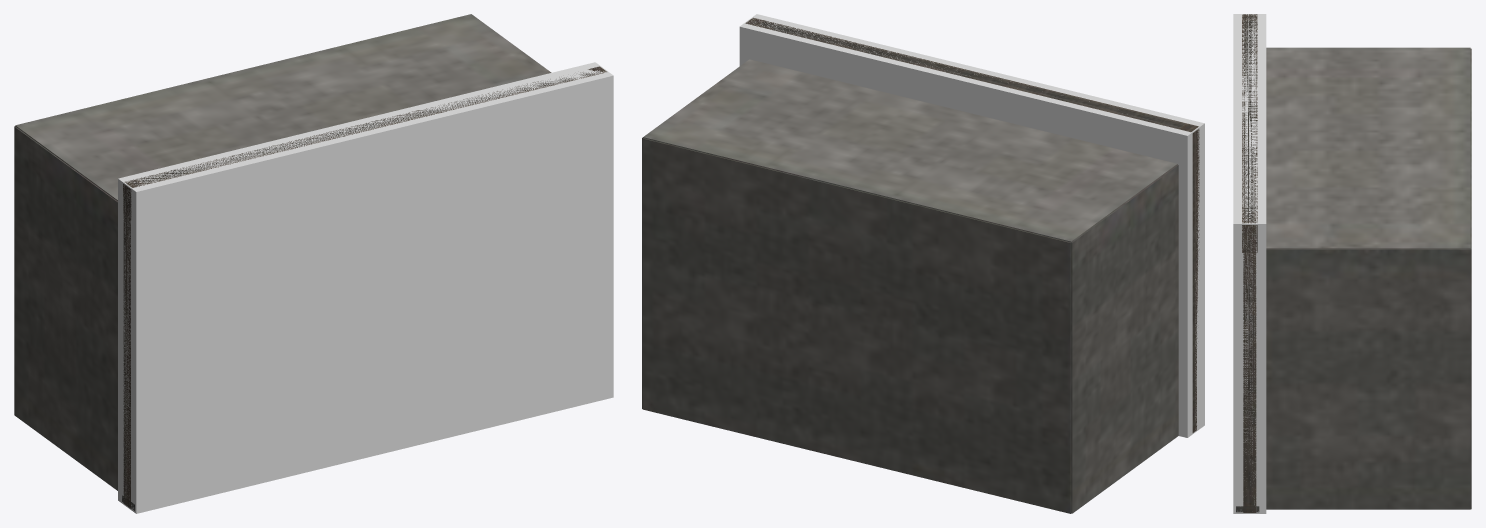
The model's file is sf04_front.gltf.
3 renders of one model, left to right at view 1: azimuth 30°, elevation 25°; view 2: azimuth 150°, elevation 25°; view 3: azimuth 270°, elevation 25°, orthographic. The views are drawn at different scales.
Visible parts, largest first — view 1: sf04_front_COL, sf04_front_LOD0; view 2: sf04_front_LOD0, sf04_front_COL; view 3: sf04_front_LOD0, sf04_front_COL.
Boxes of the visible parts, x1,y1,x2,y2 form: sf04_front_COL: [118, 62, 613, 513]; sf04_front_LOD0: [14, 14, 606, 510]; sf04_front_LOD0: [642, 17, 1199, 513]; sf04_front_COL: [739, 14, 1204, 437]; sf04_front_LOD0: [1236, 14, 1471, 512]; sf04_front_COL: [1233, 14, 1266, 513].
Size of what is drawn, in the model's own units: 4.5 by 2.9 by 2.16.
2 materials, 1 textured.
